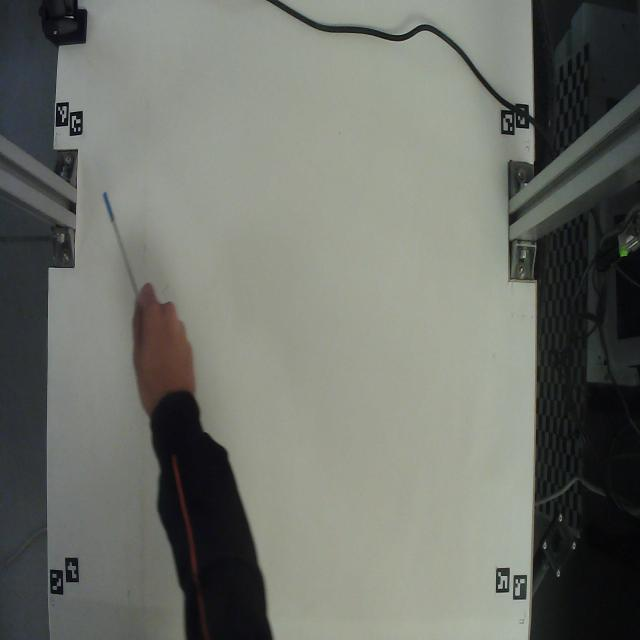NoPres: (95, 182, 153, 316)
